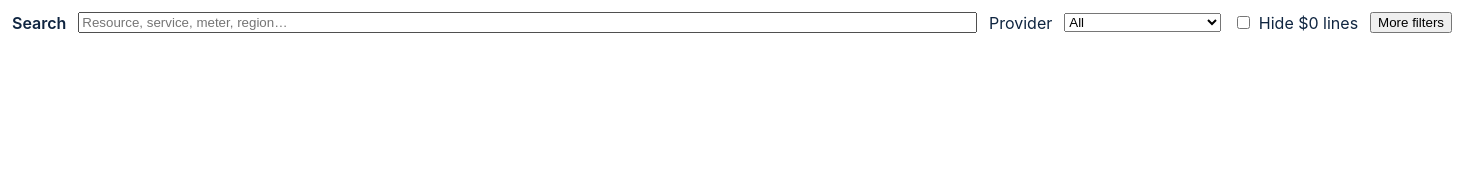
LineItemFilterBar › keeps the secondary filters hidden until asked for
The width and height of the screenshot is (1464, 172).
Expected: the field labelled "billing code" is not shown
Click the button "More filters". click: (1411, 22)
box: [1370,12,1452,33]
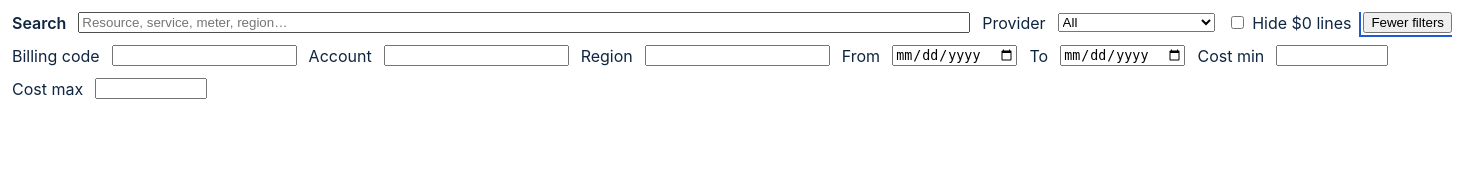
Expected: the field labelled "Billing code" is shown, [112,45,297,66]
Expected: the date field labelled "From" is shown, [892,45,1017,66]
Expected: the number field labelled "Cost min" is shown, [1276,45,1388,66]
